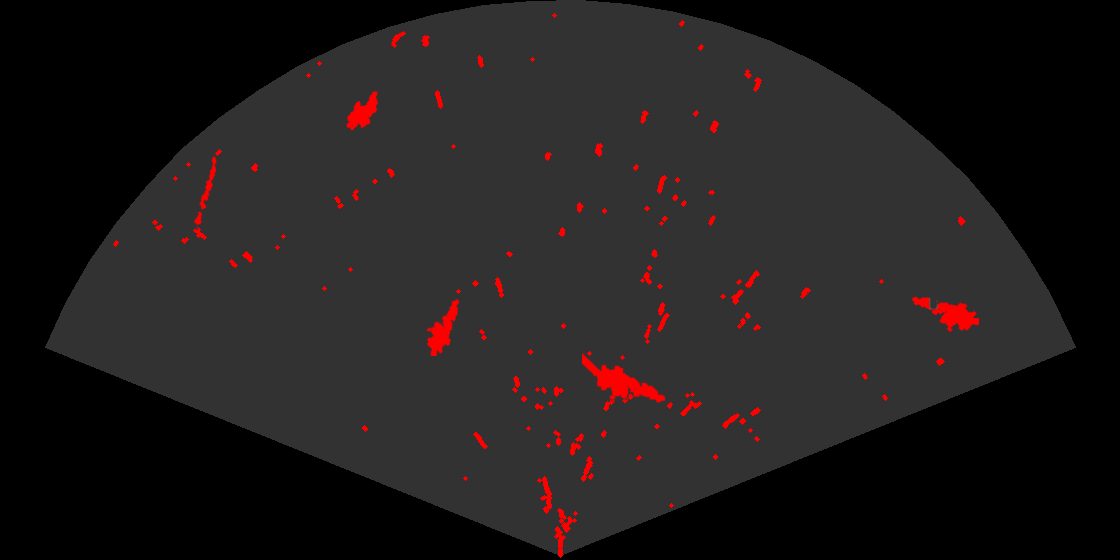AUV: (345, 90, 380, 132)
chain: (192, 154, 218, 230)
frogman: (582, 351, 667, 405), (910, 295, 979, 334), (425, 297, 461, 356)
